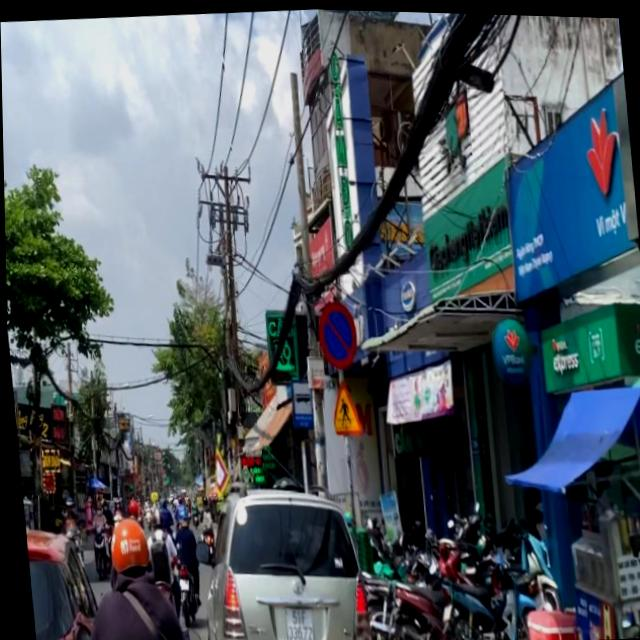Cam do xe: (313, 295, 359, 369)
Nguoi di bo cat ngang: (325, 372, 361, 438)
